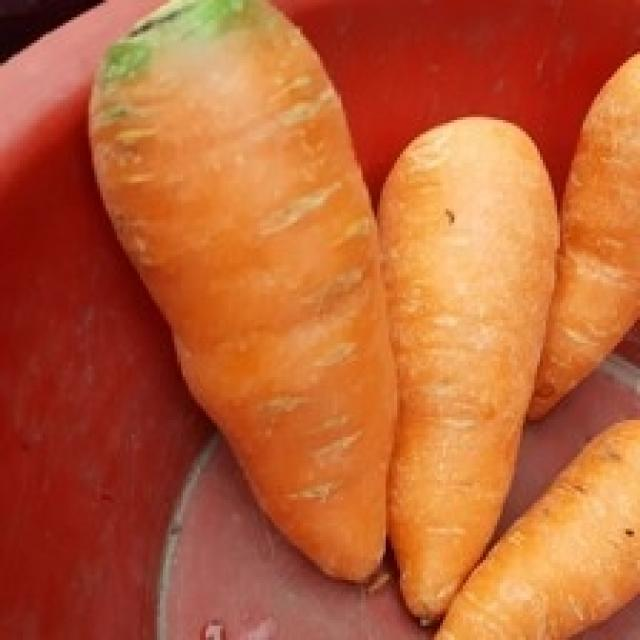carrot: (89, 0, 391, 574), (377, 114, 554, 614), (431, 417, 634, 634), (526, 51, 634, 414)
